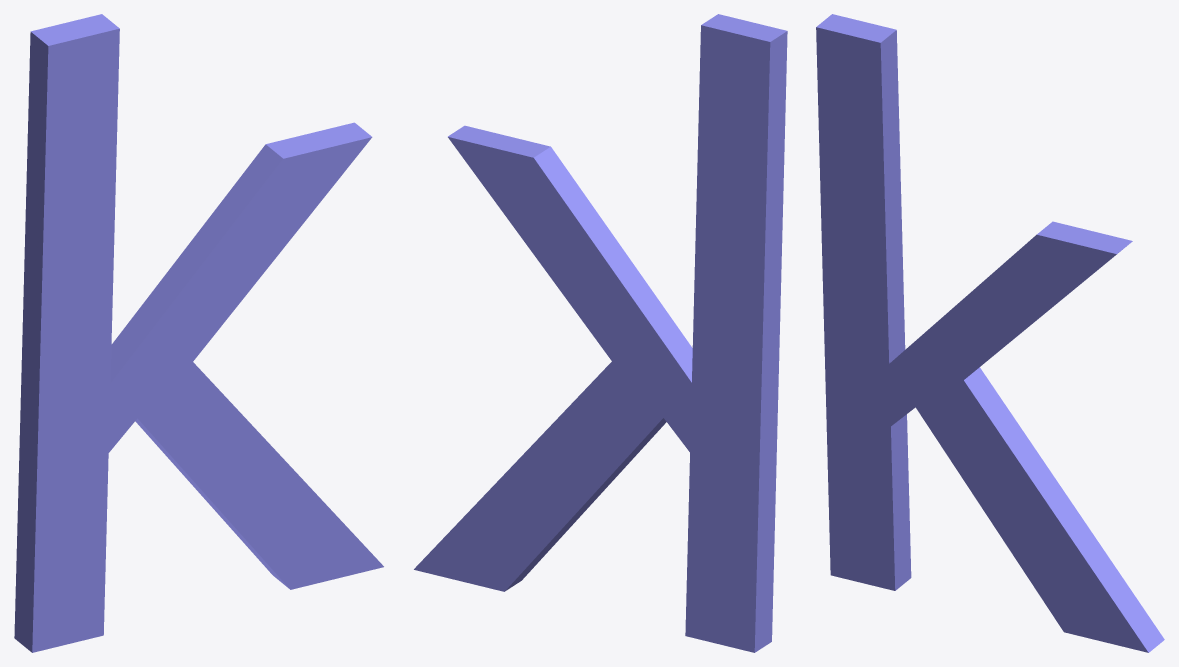
The model's file is original-10.obj.
3 views of the same model, side by side, from view 1: azimuth 30°, elevation 25°; view 2: azimuth 150°, elevation 25°; view 3: azimuth 330°, elevation 25° (orthographic). The views are drawn at different scales.
Parts seen in each view (by area): view 1: mesh14/mesh14-geometry#mesh14-geometry; view 2: mesh14/mesh14-geometry#mesh14-geometry; view 3: mesh14/mesh14-geometry#mesh14-geometry.
Part boxes in pixels (bbox=[...]): mesh14/mesh14-geometry#mesh14-geometry: bbox=[14, 14, 383, 652]; mesh14/mesh14-geometry#mesh14-geometry: bbox=[414, 14, 787, 652]; mesh14/mesh14-geometry#mesh14-geometry: bbox=[816, 14, 1164, 652].
Bounding box in the file's own units: 0.0291 × 0.0489 × 0.00485.
